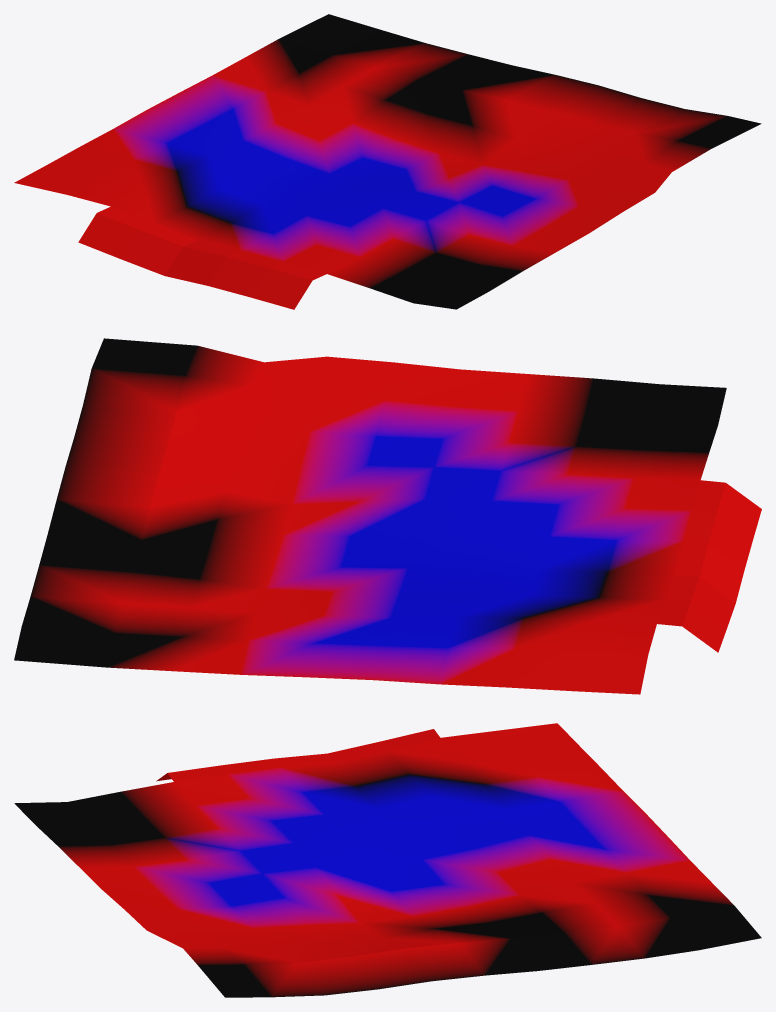
The model's file is Ground_Z9.FBX.
3 renders of one model, top to bottom at view 1: azimuth 30°, elevation 25°; view 2: azimuth 150°, elevation 25°; view 3: azimuth 270°, elevation 25°, orthographic. The views are drawn at different scales.
Visible parts, largest first — view 1: Plane001; view 2: Plane001; view 3: Plane001.
Part boxes in pixels (x1,y1,x2,y2): Plane001: (14,14,761,309); Plane001: (14,338,761,694); Plane001: (14,723,761,997).
Size of the model in its own units: 3136 by 245 by 3240.
